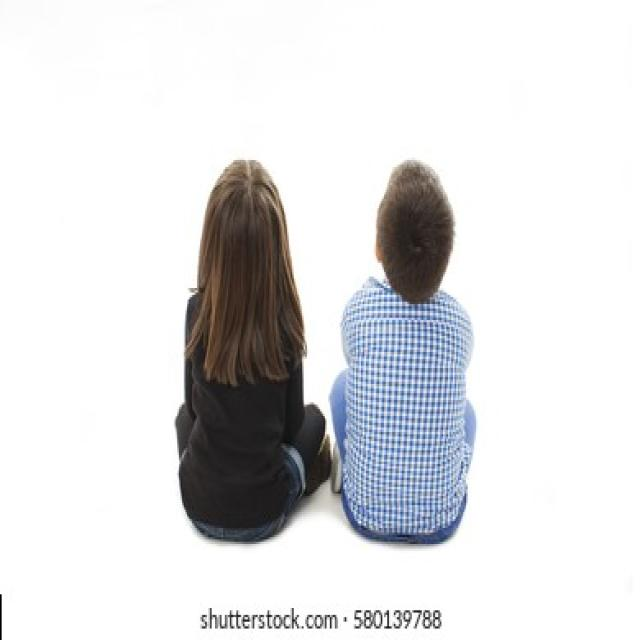child: (170, 157, 332, 545), (332, 155, 476, 547)
